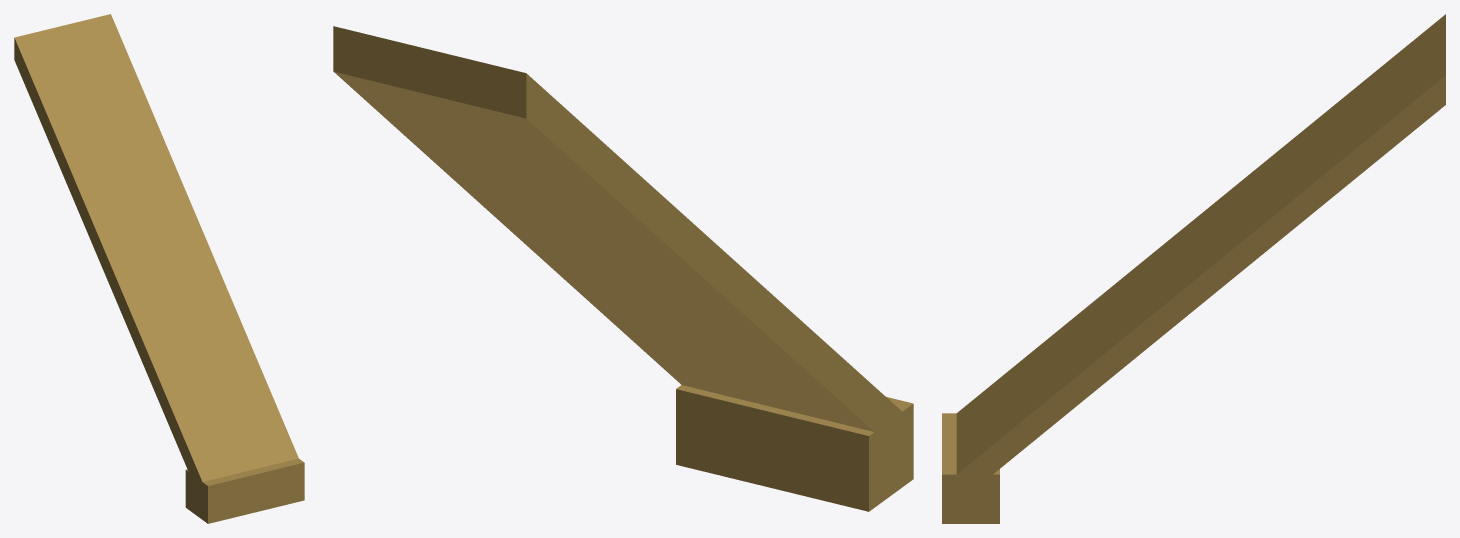
The model's file is VergeEave.fbx.
3 renders of one model, left to right at view 1: azimuth 30°, elevation 25°; view 2: azimuth 150°, elevation 25°; view 3: azimuth 270°, elevation 25°, orthographic. The views are drawn at different scales.
Parts seen in each view (by area): view 1: Kit_VergeEave; view 2: Kit_VergeEave; view 3: Kit_VergeEave.
Part boxes in pixels (x1,y1,x2,y2): Kit_VergeEave: (14, 14, 304, 523); Kit_VergeEave: (333, 26, 913, 511); Kit_VergeEave: (942, 14, 1445, 523).
Bounding box in the file's own units: 0.4 × 1.37 × 1.39.
